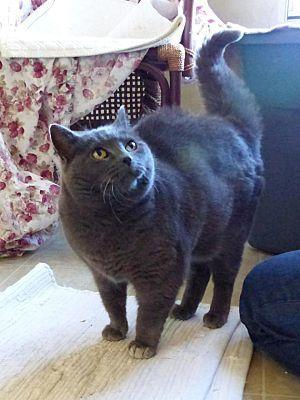rblue: (46, 96, 170, 233)
